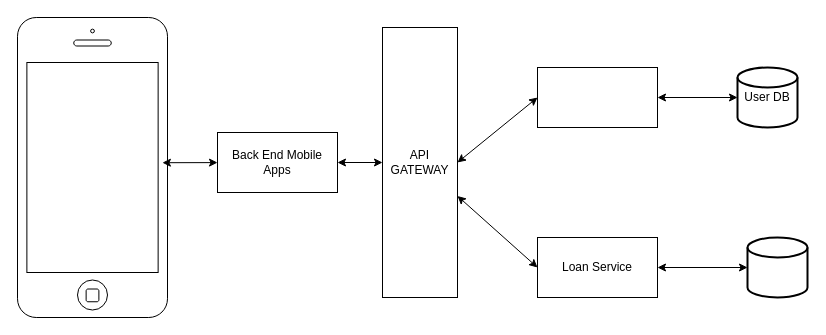
Some shapes in this 826 by 335 pixel diagram are drawn without their labels. Here are the shapes that lost their labels. From the top down, the box of each, then its label:
(536, 66, 658, 128): Authenctication Service
(746, 236, 808, 298): Loan DB
